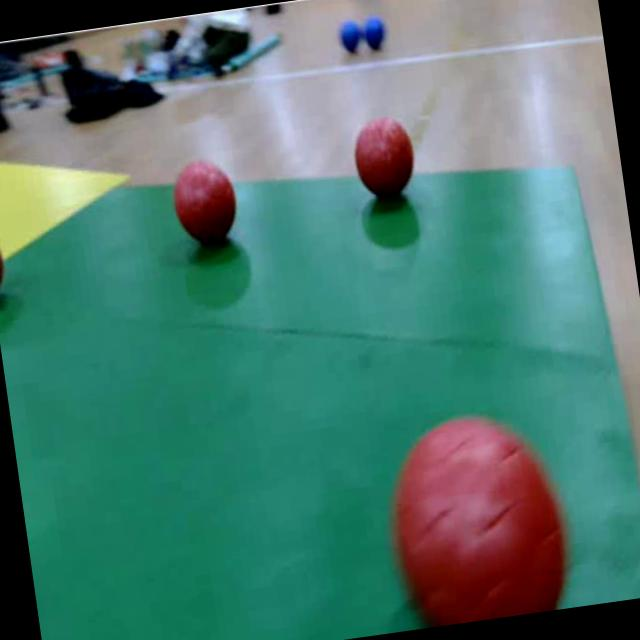blue_ball: (358, 15, 390, 55), (337, 19, 366, 58)
red_ball: (370, 401, 584, 632), (168, 152, 244, 256), (352, 113, 422, 206), (0, 223, 9, 306)
